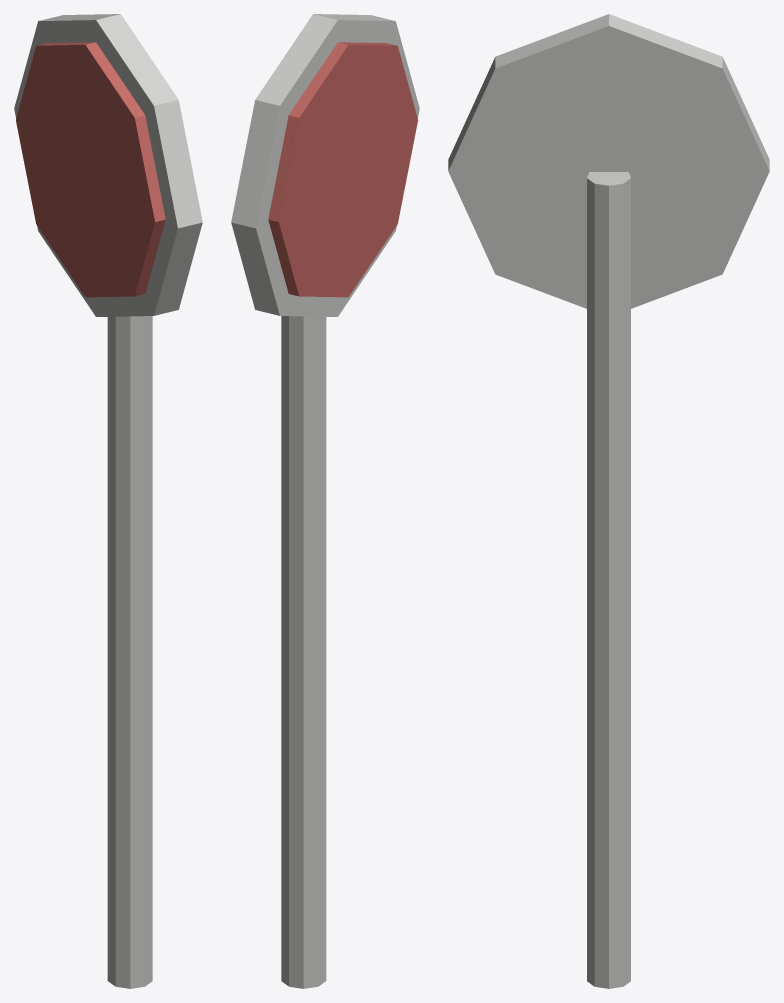
The model's file is TrafficSign1.glb.
3 views of the same model, side by side, from view 1: azimuth 30°, elevation 25°; view 2: azimuth 150°, elevation 25°; view 3: azimuth 270°, elevation 25° (orthographic).
Parts seen in each view (by area): view 1: TrafficSign1.obj; view 2: TrafficSign1.obj; view 3: TrafficSign1.obj.
Part boxes in pixels (x1=…): TrafficSign1.obj: x1=14, y1=14, x2=202, y2=988; TrafficSign1.obj: x1=231, y1=14, x2=419, y2=988; TrafficSign1.obj: x1=448, y1=14, x2=769, y2=988.
Size of the model in its own units: 0.1059 by 1.52 by 0.4651.
